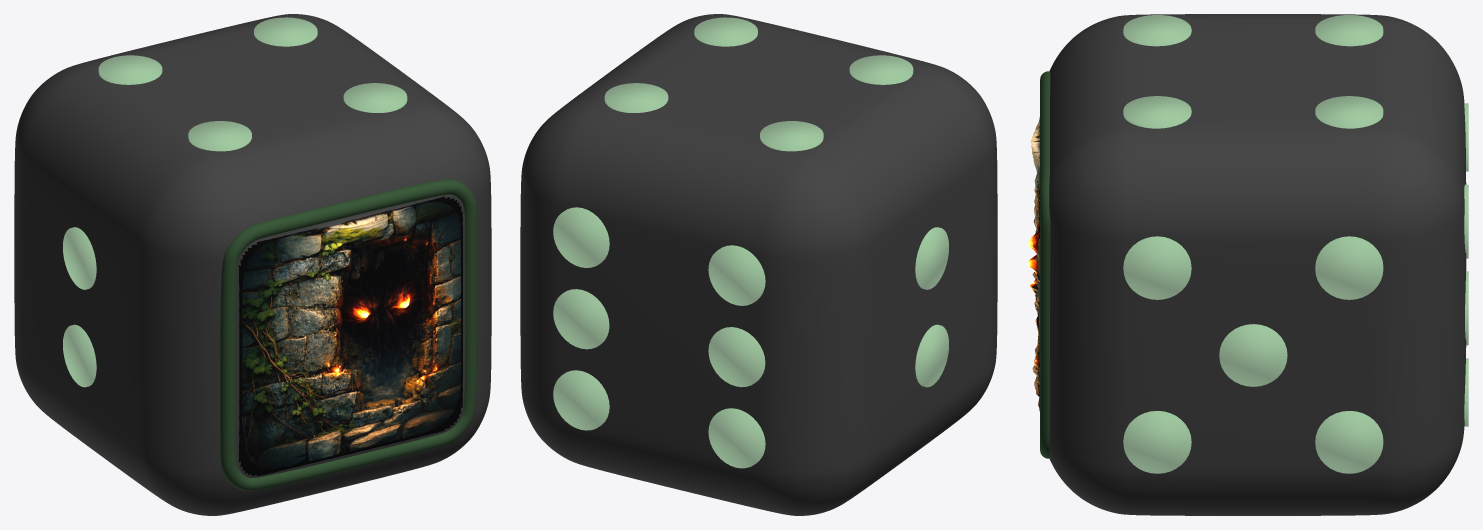
The model's file is maze-dice.glb.
3 renders of one model, left to right at view 1: azimuth 30°, elevation 25°; view 2: azimuth 150°, elevation 25°; view 3: azimuth 270°, elevation 25°, orthographic. The views are drawn at different scales.
Visible parts, largest first — view 1: MazeDice, MazeFrame, MDot_left_0, MDot_top_2, MDot_left_1, MDot_top_3, MDot_top_0, MDot_top_1; view 2: MazeDice, MDot_back_0, MDot_back_4, MDot_back_1, MDot_back_2, MDot_back_5, MDot_back_3, MDot_left_0, MDot_top_0, MDot_left_1, MDot_top_1, MDot_top_2 (+1 smaller); view 3: MazeDice, MazeFrame, MDot_right_1, MDot_right_0, MDot_right_4, MDot_right_3, MDot_right_2, MDot_top_1, MDot_top_3, MDot_top_2, MDot_top_0.
Boxes of the visible parts, x1,y1,x2,y2 form: MazeDice: [14, 14, 491, 515]; MazeFrame: [220, 179, 477, 490]; MDot_left_0: [63, 227, 96, 289]; MDot_top_2: [188, 121, 251, 151]; MDot_left_1: [63, 324, 96, 387]; MDot_top_3: [343, 83, 407, 112]; MDot_top_0: [98, 55, 162, 84]; MDot_top_1: [254, 17, 317, 46]; MazeDice: [520, 14, 997, 515]; MDot_back_0: [708, 245, 765, 305]; MDot_back_4: [708, 408, 765, 468]; MDot_back_1: [553, 207, 609, 267]; MDot_back_2: [708, 327, 765, 387]; MDot_back_5: [553, 370, 609, 430]; MDot_back_3: [553, 289, 609, 349]; MDot_left_0: [915, 227, 948, 289]; MDot_top_0: [760, 121, 823, 151]; MDot_left_1: [915, 324, 948, 387]; MDot_top_1: [604, 83, 668, 112]; MDot_top_2: [849, 55, 913, 84]; MazeDice: [1026, 14, 1466, 515]; MazeFrame: [1040, 71, 1050, 458]; MDot_right_1: [1315, 236, 1383, 299]; MDot_right_0: [1123, 236, 1191, 299]; MDot_right_4: [1315, 411, 1383, 473]; MDot_right_3: [1123, 411, 1191, 473]; MDot_right_2: [1219, 324, 1287, 386]; MDot_top_1: [1315, 96, 1383, 128]; MDot_top_3: [1123, 96, 1191, 128]; MDot_top_2: [1123, 15, 1191, 46]; MDot_top_0: [1315, 15, 1383, 46].
Bounding box in the file's own units: 2.02 × 2.02 × 2.08.
4 materials, 1 textured.
